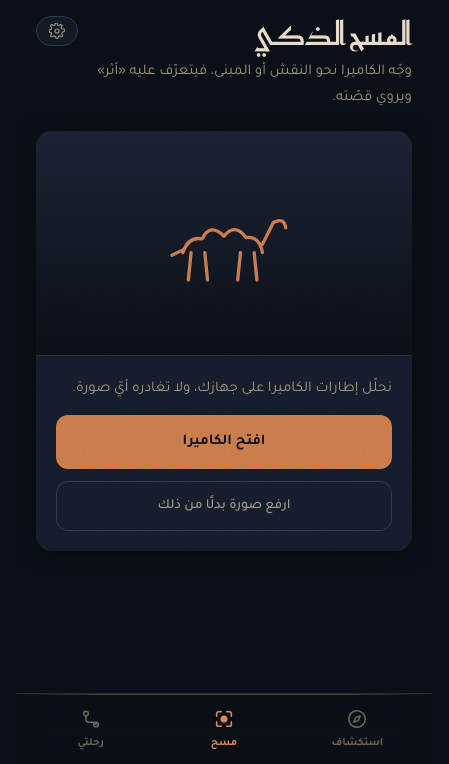
Scenario: شاشة المسح › تنتقل إلى مسار الرفع عند رفض إذن الكاميرا
Click the button "افتح الكاميرا".
click(224, 442)  # box [56,414,392,469]
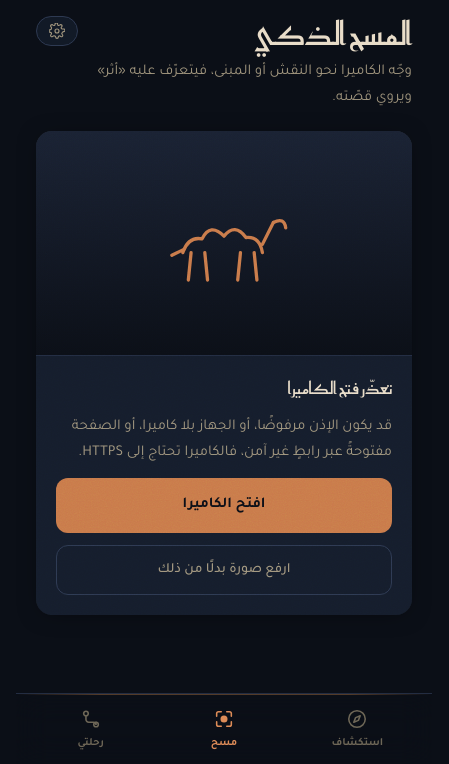
expect the text "تعذّر فتح الكاميرا" is shown: met, box [288,375,392,401]
